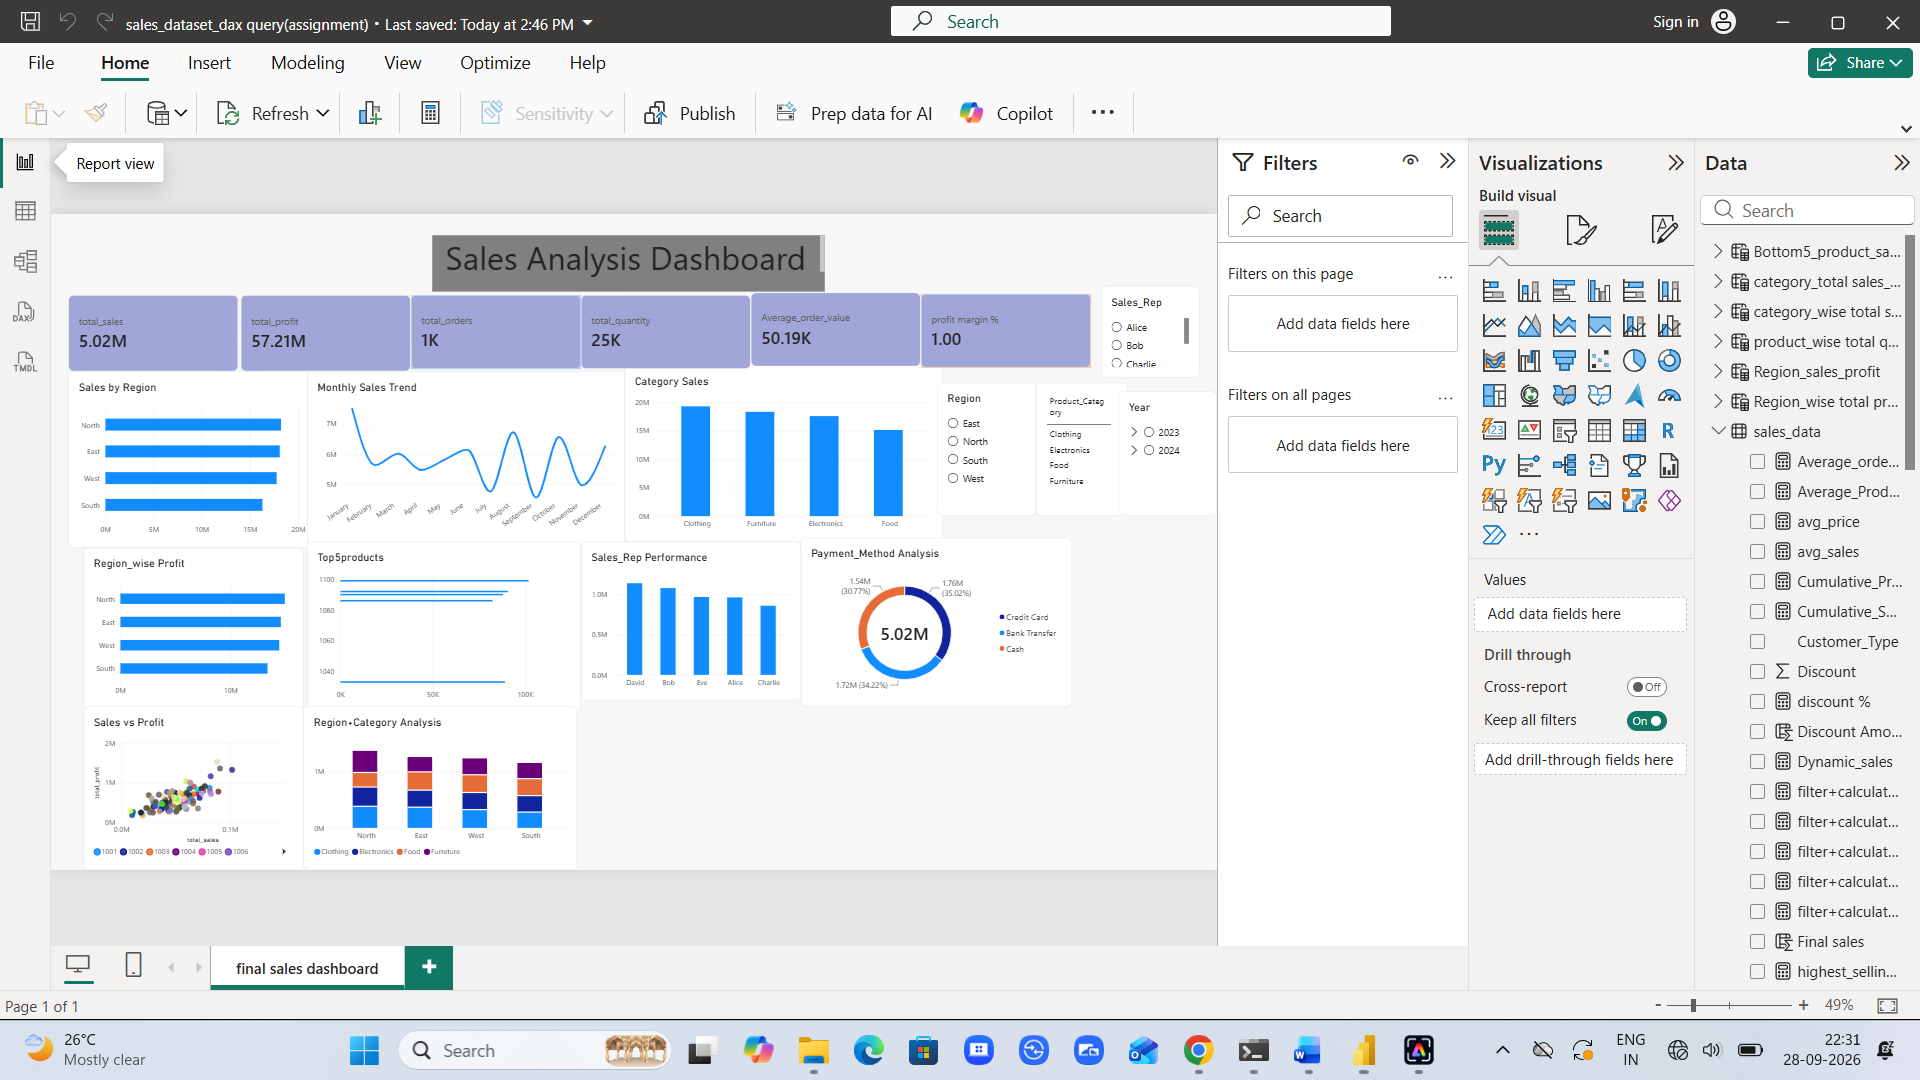

This screenshot's page, from the dashboard's own definition file:
{"tool":"powerbi","page":{"name":"final sales dashboard","canvas":[1920,1080],"ordinal":0},"visuals":[{"type":"barChart","title":"Sales by Region","fields":{"Category":["sales_data.Region"],"Y":["Sum(sales_data.Total sales)"]},"box":[28.8,259.3,407.5,290.2],"z":0},{"type":"lineChart","title":"Monthly Sales Trend","fields":{"Category":["sales_data.Sale_Date.Variation.Date Hierarchy.Month"],"Y":["Sum(sales_data.Total sales)"]},"box":[422,259.3,522.8,290.2],"z":1000},{"type":"clusteredColumnChart","title":"Category Sales","fields":{"Category":["sales_data.Product_Category"],"Y":["Sum(sales_data.Total sales)"]},"box":[944.8,249.1,522.8,290.2],"z":2000},{"type":"barChart","title":"Region_wise Profit","fields":{"Category":["sales_data.Region"],"Y":["sales_data.total_profit"]},"box":[53.5,549.6,362.3,265.5],"z":3000},{"type":"barChart","title":"Top5products","fields":{"Category":["sales_data.Product_ID"],"Y":["sales_data.total_sales"]},"box":[422,539.3,450.8,282],"z":4000},{"type":"columnChart","title":"Sales_Rep Performance","fields":{"Category":["sales_data.Sales_Rep"],"Y":["sales_data.total_sales"]},"box":[872.7,539.3,362.3,261.4],"z":5000},{"type":"donutChart","title":"Payment_Method Analysis","fields":{"Category":["sales_data.Payment_Method"],"Y":["sales_data.total_sales"]},"box":[1235,533.1,446.7,277.9],"z":6000},{"type":"scatterChart","title":"Sales vs Profit","fields":{"Series":["sales_data.Product_ID"],"X":["sales_data.total_sales"],"Y":["sales_data.total_profit"]},"box":[53.5,811,362.3,269.6],"z":7000},{"type":"columnChart","title":"Region+Category Analysis","fields":{"Category":["sales_data.Region"],"Series":["sales_data.Product_Category"],"Y":["sales_data.total_sales"]},"box":[415.8,811,450.8,269.6],"z":8000},{"type":"textbox","box":[994,695,362,327],"z":9000},{"type":"cardVisual","fields":{"Data":["sales_data.total_sales"]},"box":[28.8,133.8,279.9,125.6],"z":10000},{"type":"cardVisual","fields":{"Data":["sales_data.total_profit"]},"box":[312.9,133.8,279.9,125.6],"z":11000},{"type":"cardVisual","fields":{"Data":["sales_data.total_orders"]},"box":[592.8,133.8,279.9,121.4],"z":12000},{"type":"cardVisual","fields":{"Data":["sales_data.total_quantity"]},"box":[872.7,133.8,279.9,121.4],"z":13000},{"type":"cardVisual","fields":{"Data":["sales_data.Average_order_value"]},"box":[1152.7,129.7,279.9,121.4],"z":14000},{"type":"cardVisual","fields":{"Data":["sales_data.profit margin %"]},"box":[1432.6,131.7,279.9,121.4],"z":15000},{"type":"textbox","box":[627.8,35,646.3,92.6],"z":16000},{"type":"listSlicer","fields":{"Values":["sales_data.Region"]},"box":[1459.4,277.9,162.6,218.2],"z":17000},{"type":"tableEx","fields":{"Values":["sales_data.Product_Category"]},"box":[1622,277.9,150,218.2],"z":18000},{"type":"listSlicer","fields":{"Values":["sales_data.Sales_Rep"]},"box":[1729,119.4,162,150],"z":19000},{"type":"listSlicer","fields":{"Values":["sales_data.Sale_Date.Variation.Date Hierarchy.Year","sales_data.Sale_Date.Variation.Date Hierarchy.Quarter","sales_data.Sale_Date.Variation.Date Hierarchy.Month","sales_data.Sale_Date.Variation.Date Hierarchy.Day"]},"box":[1757.8,292.3,162.6,203.8],"z":20000}]}

Visuals, with their boxes on the page's 1920x1080 design canvas (x1, y1, x2, y2). These are canvas units, not pixel positions in the 1920x1080 screenshot, which may show the page scaled, cropped or inside an application window:
"Sales by Region" barChart: bbox=(29, 259, 436, 550)
"Monthly Sales Trend" lineChart: bbox=(422, 259, 945, 550)
"Category Sales" clusteredColumnChart: bbox=(945, 249, 1468, 539)
"Region_wise Profit" barChart: bbox=(54, 550, 416, 815)
"Top5products" barChart: bbox=(422, 539, 873, 821)
"Sales_Rep Performance" columnChart: bbox=(873, 539, 1235, 801)
"Payment_Method Analysis" donutChart: bbox=(1235, 533, 1682, 811)
"Sales vs Profit" scatterChart: bbox=(54, 811, 416, 1081)
"Region+Category Analysis" columnChart: bbox=(416, 811, 867, 1081)
textbox: bbox=(994, 695, 1356, 1022)
cardVisual - sales_data.total_sales: bbox=(29, 134, 309, 259)
cardVisual - sales_data.total_profit: bbox=(313, 134, 593, 259)
cardVisual - sales_data.total_orders: bbox=(593, 134, 873, 255)
cardVisual - sales_data.total_quantity: bbox=(873, 134, 1153, 255)
cardVisual - sales_data.Average_order_value: bbox=(1153, 130, 1433, 251)
cardVisual - sales_data.profit margin %: bbox=(1433, 132, 1712, 253)
textbox: bbox=(628, 35, 1274, 128)
listSlicer - sales_data.Region: bbox=(1459, 278, 1622, 496)
tableEx - sales_data.Product_Category: bbox=(1622, 278, 1772, 496)
listSlicer - sales_data.Sales_Rep: bbox=(1729, 119, 1891, 269)
listSlicer - sales_data.Sale_Date.Variation.Date Hierarchy.Year x sales_data.Sale_Date.Variation.Date Hierarchy.Quarter: bbox=(1758, 292, 1920, 496)
